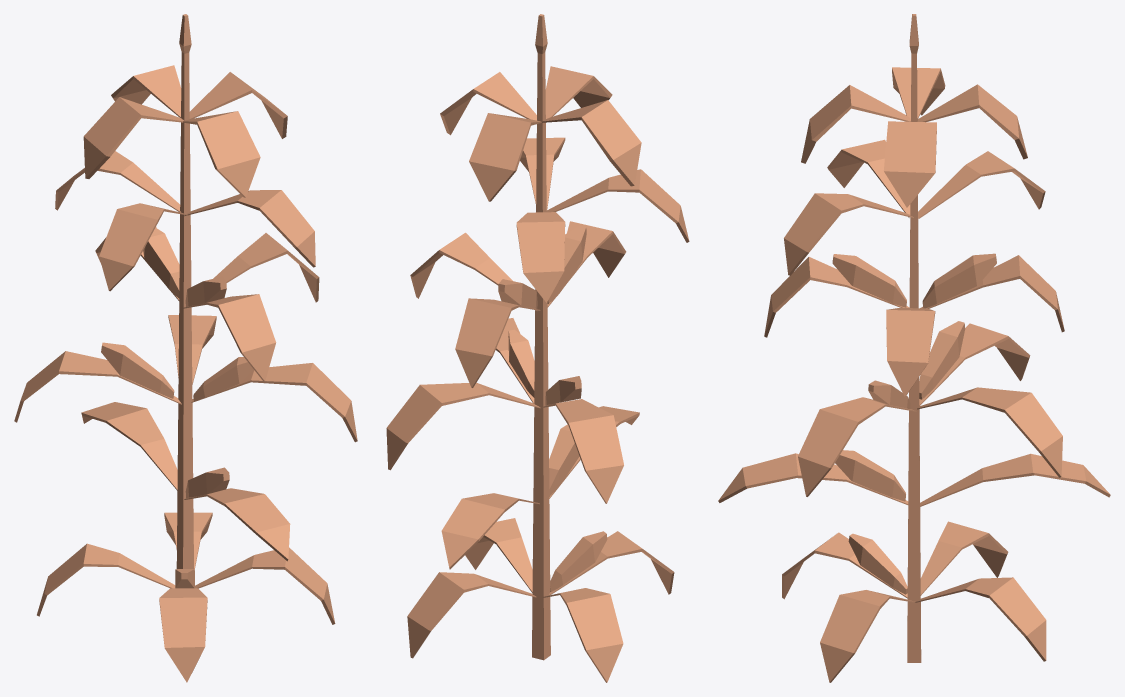
Rendered from flower_parts.glb.
The picture shows the model from 3 angles, left to right: view 1: azimuth 30°, elevation 25°; view 2: azimuth 150°, elevation 25°; view 3: azimuth 270°, elevation 25°; orthographic projection.
Parts seen in each view (by area): view 1: Corn_2; view 2: Corn_2; view 3: Corn_2.
Boxes of the visible parts, bbox=[...] form: Corn_2: bbox=[14, 14, 357, 682]; Corn_2: bbox=[386, 14, 689, 682]; Corn_2: bbox=[718, 14, 1110, 682].
Bounding box in the file's own units: 74.73 × 180 × 99.33.
